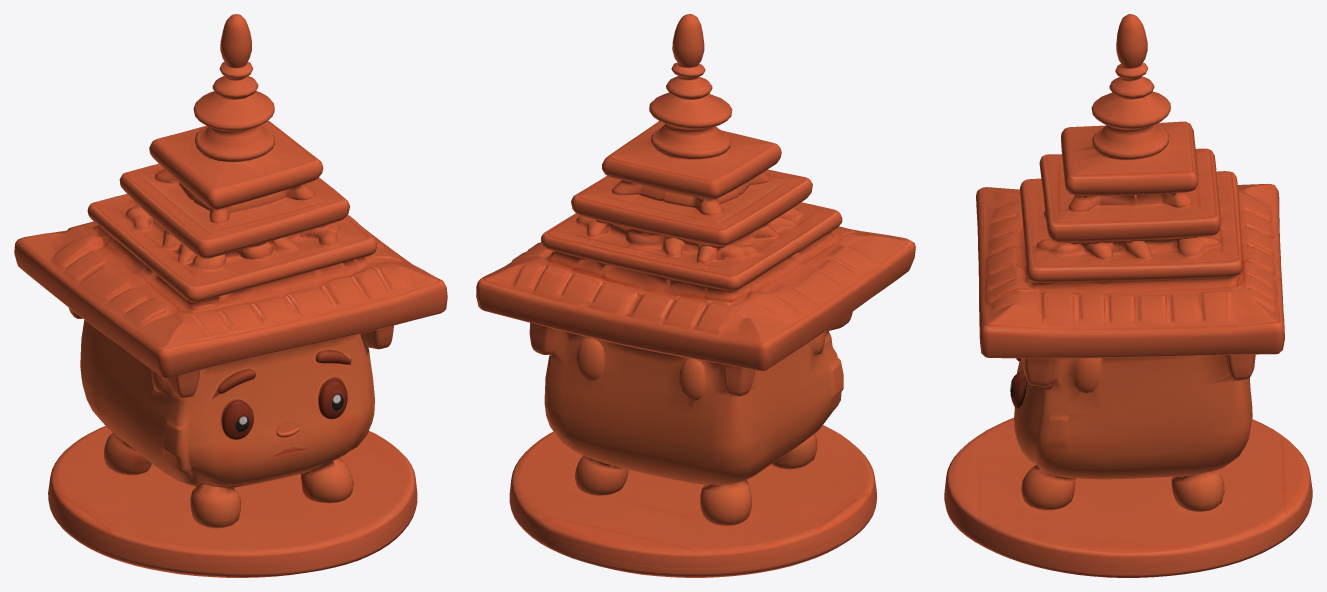
Rendered from myan-envi-2.glb.
3 renders of one model, left to right at view 1: azimuth 30°, elevation 25°; view 2: azimuth 150°, elevation 25°; view 3: azimuth 270°, elevation 25°, orthographic.
Parts seen in each view (by area): view 1: tripo_node_90cbd815-5544-435c-9ef8-6bd3874e16f8; view 2: tripo_node_90cbd815-5544-435c-9ef8-6bd3874e16f8; view 3: tripo_node_90cbd815-5544-435c-9ef8-6bd3874e16f8.
Boxes of the visible parts, left/top/right/bottom form: tripo_node_90cbd815-5544-435c-9ef8-6bd3874e16f8: left=14, top=14, right=447, bottom=577; tripo_node_90cbd815-5544-435c-9ef8-6bd3874e16f8: left=476, top=14, right=915, bottom=577; tripo_node_90cbd815-5544-435c-9ef8-6bd3874e16f8: left=944, top=14, right=1312, bottom=577.
Bounding box in the file's own units: 0.687 × 0.9995 × 0.6841.
Materials: 1 (1 with a texture image).
